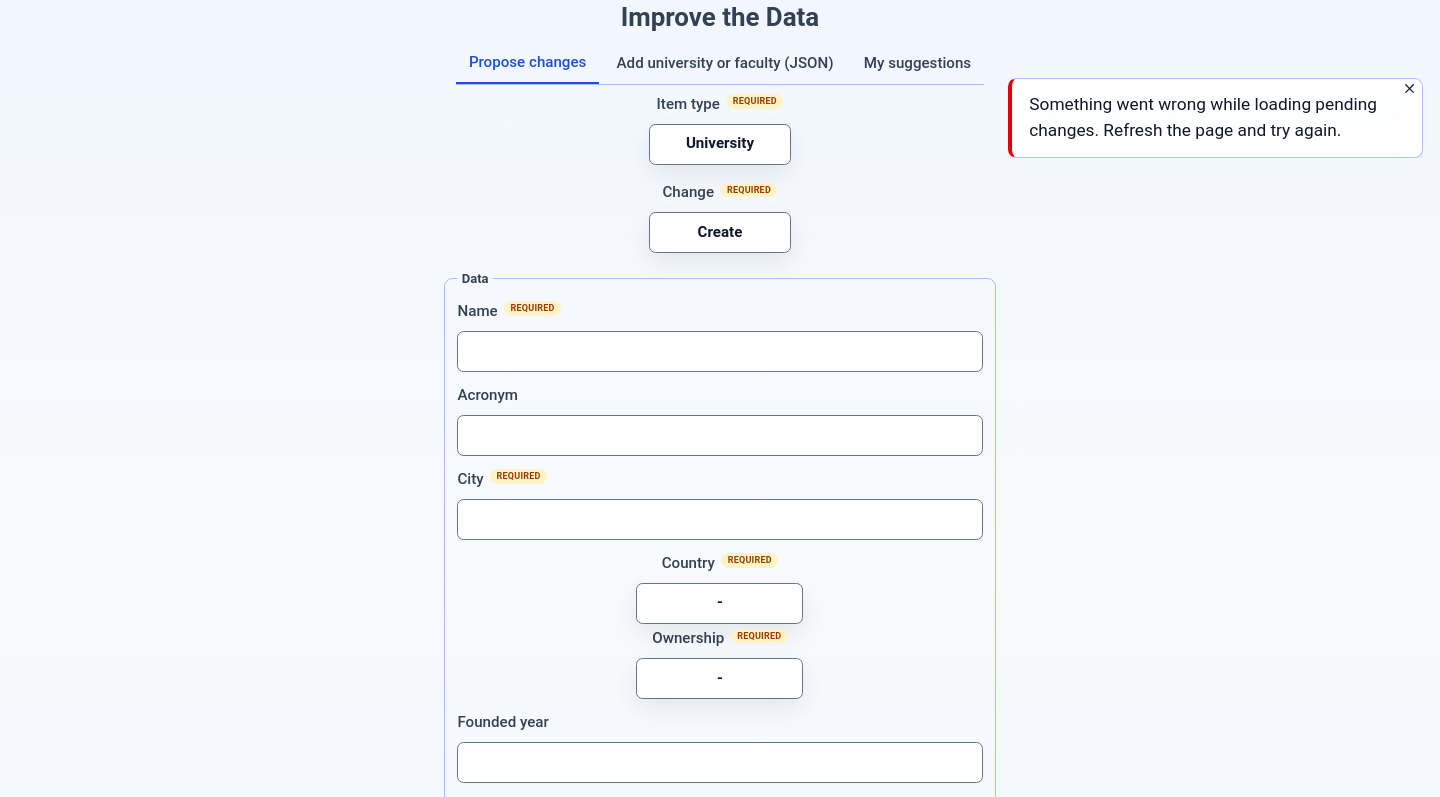
Scenario: ContributionDashboard › shows an error notification when pending changes fail to load
Click the link "My suggestions". click: point(917, 63)
box: [864, 54, 971, 72]
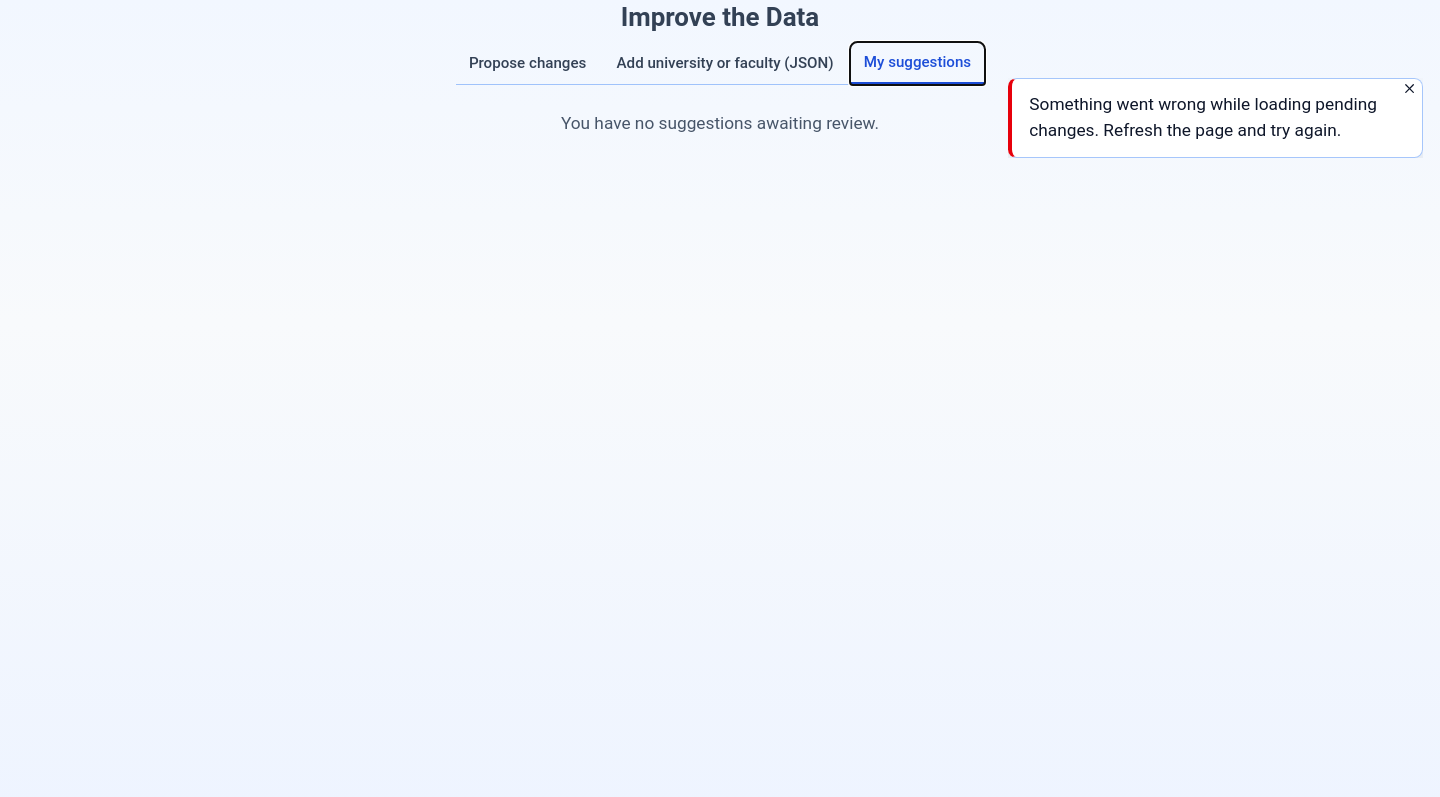
Expected: the message shows "Something went wrong while loading pending changes. Refresh the page and try again.", [1029, 94, 1377, 140]
Now the text "You have no suggestions awaiting review." is shown, box [561, 113, 879, 133]
